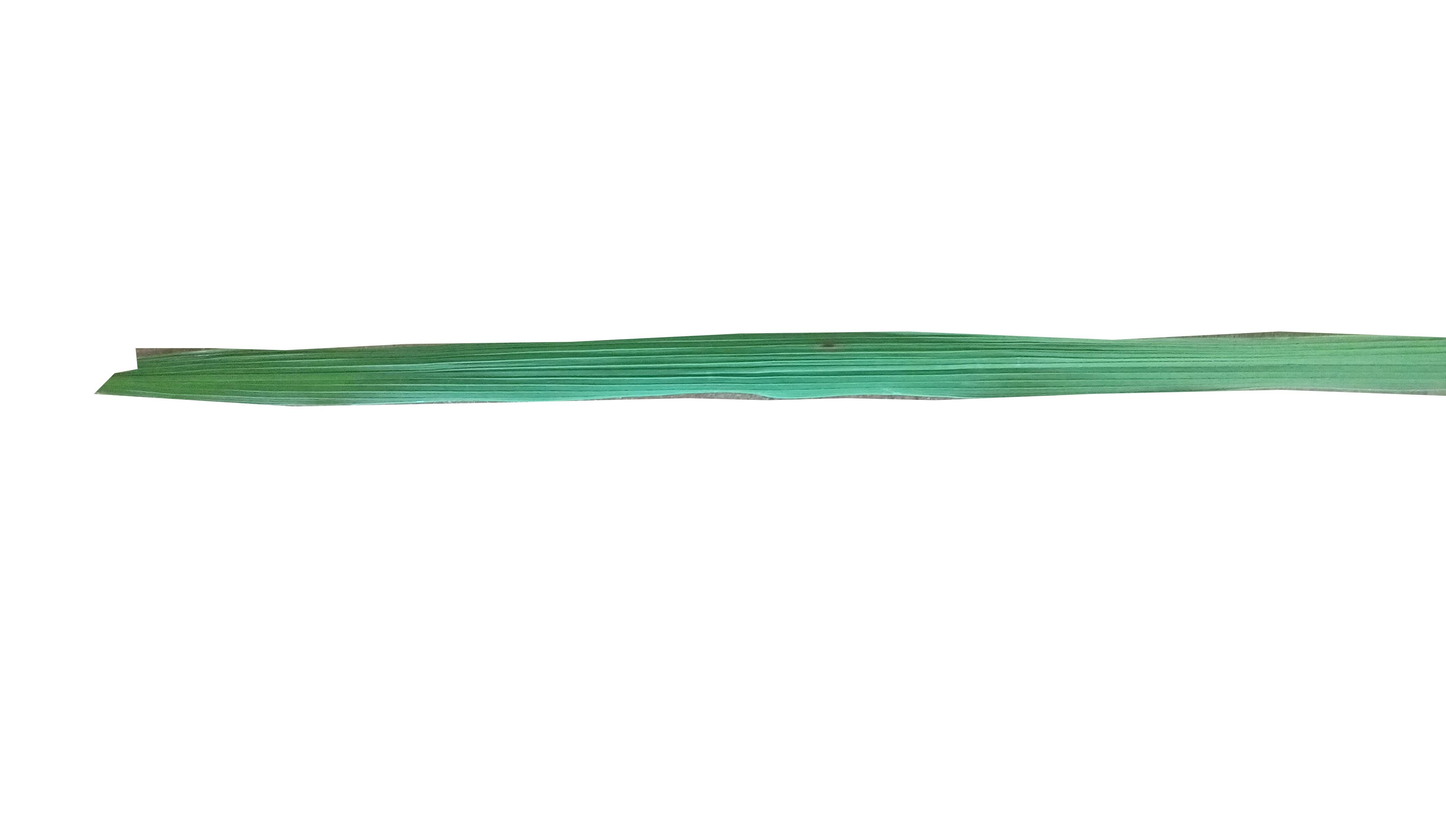Brown spot: (813, 337, 842, 359)
